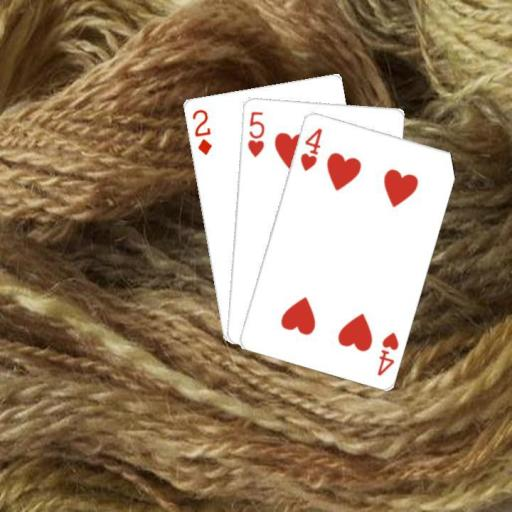2D: (189, 106, 214, 157)
4H: (374, 328, 401, 377), (297, 125, 324, 172)
5H: (244, 108, 265, 159)
